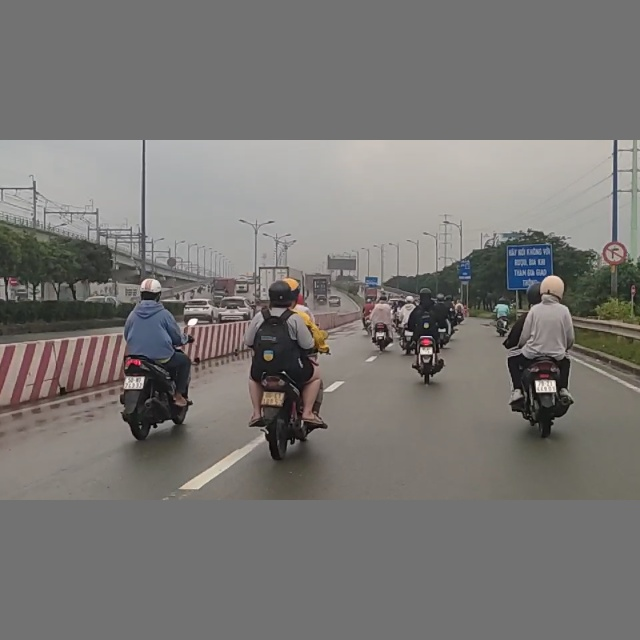P.123b: (605, 241, 627, 265)
